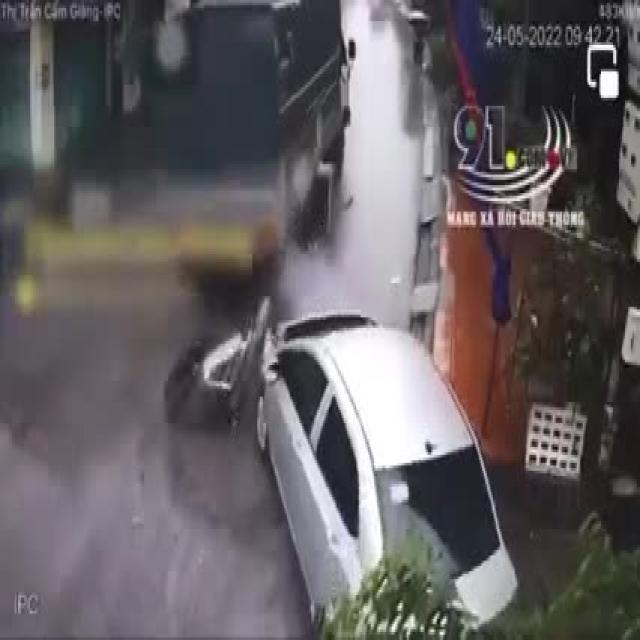multiple_accident: (149, 0, 524, 637)
